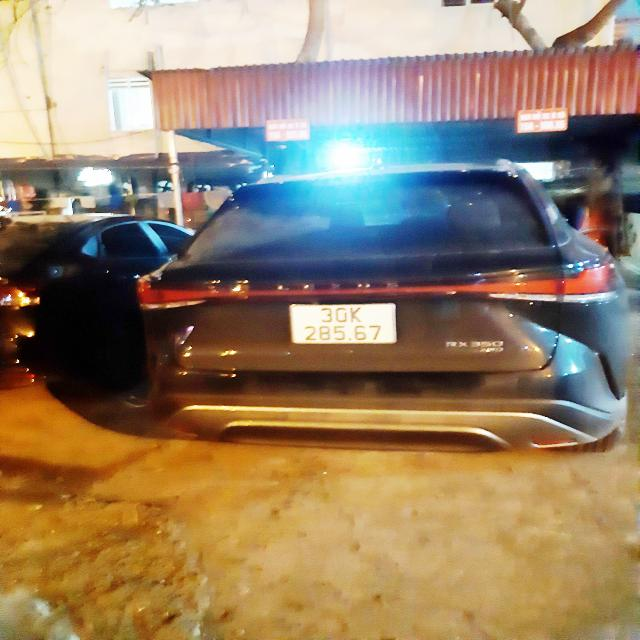license_plate: (285, 300, 405, 348)
